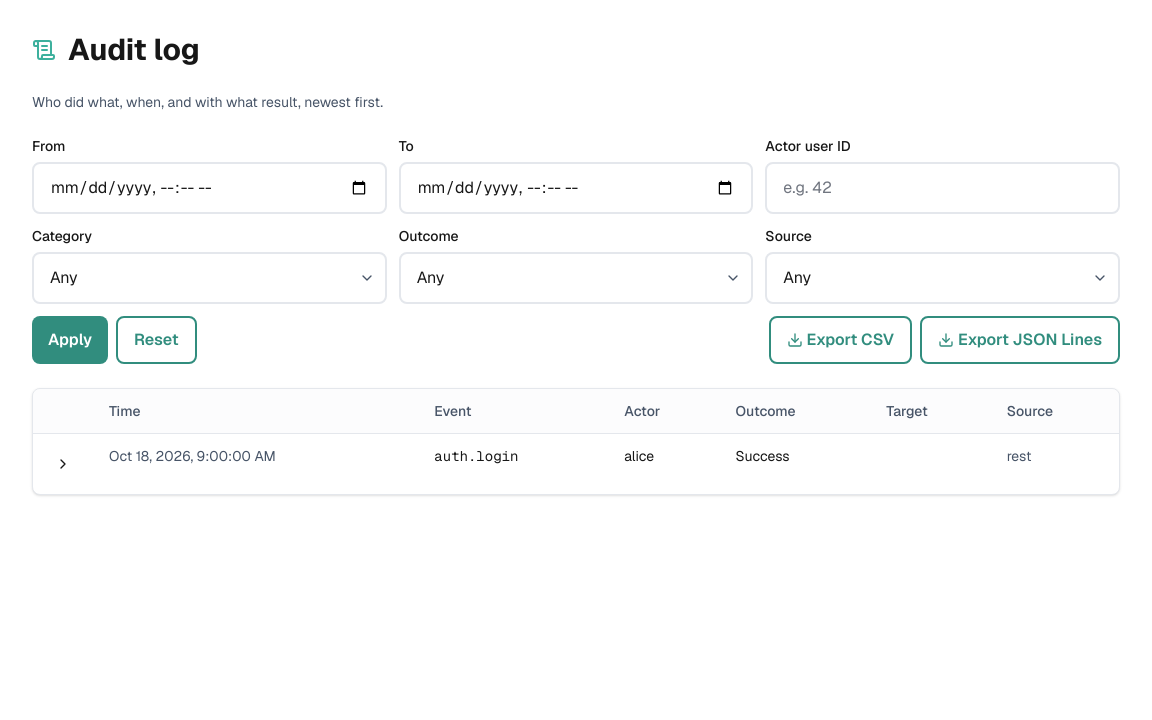
Test: AuditLogPage › says so when a row's details fail to load
Click the button named "Show details" at (63, 464), box x1=41 y1=442 x2=85 y2=486
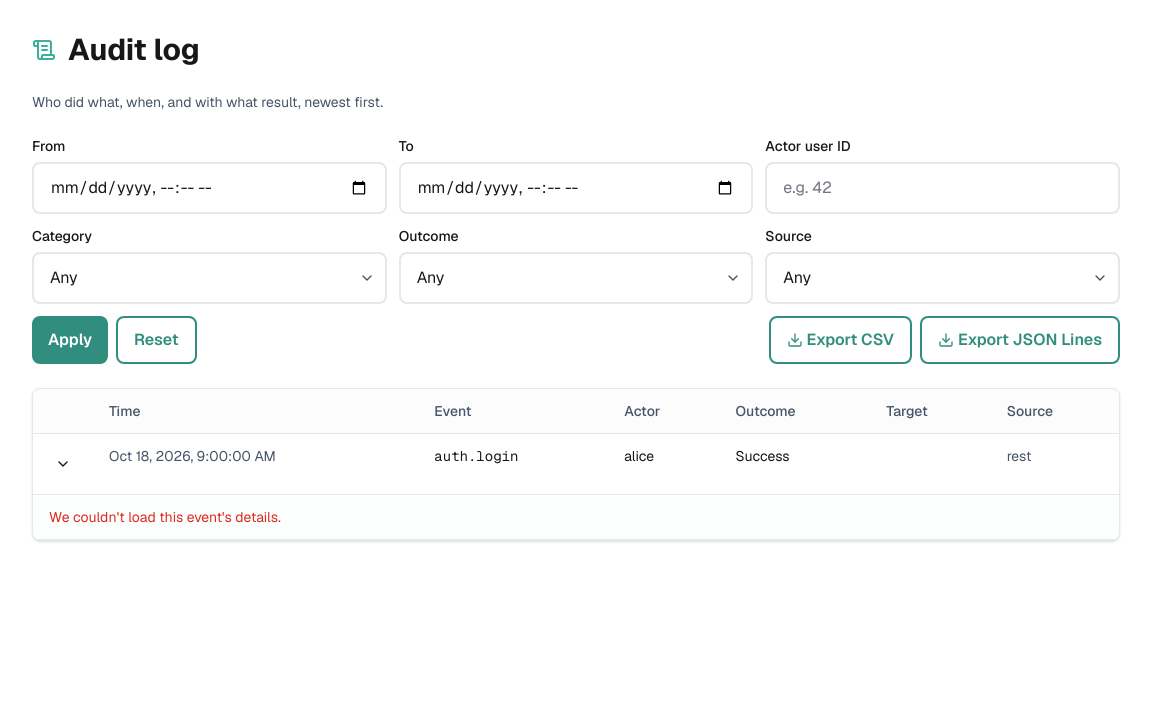
expect the text "We couldn't load this event's details." is shown: met, box x1=49 y1=508 x2=281 y2=526
